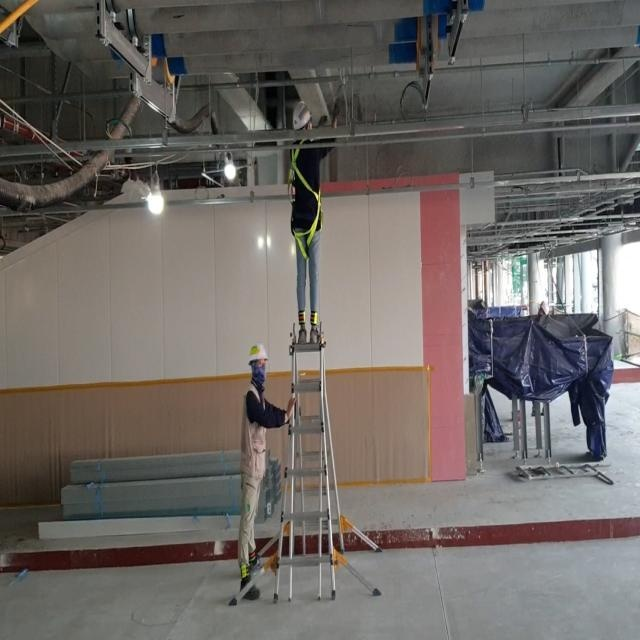Arnes_seguridad: (287, 142, 320, 258)
